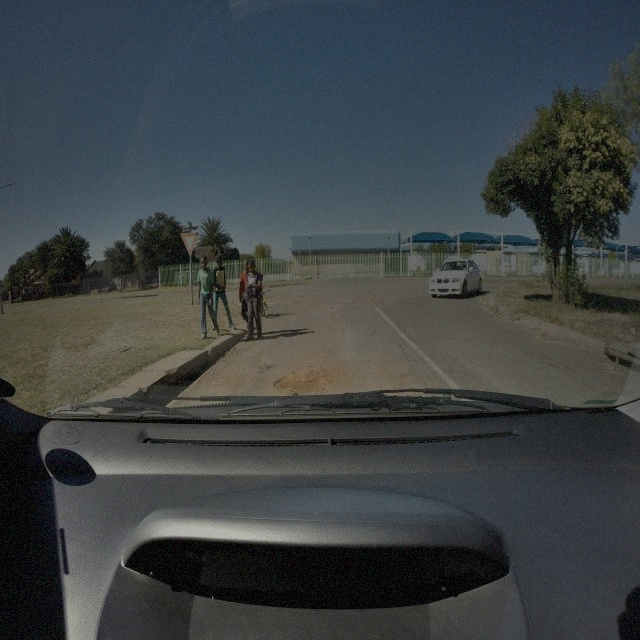pothole: (272, 364, 332, 394), (399, 370, 415, 381)
